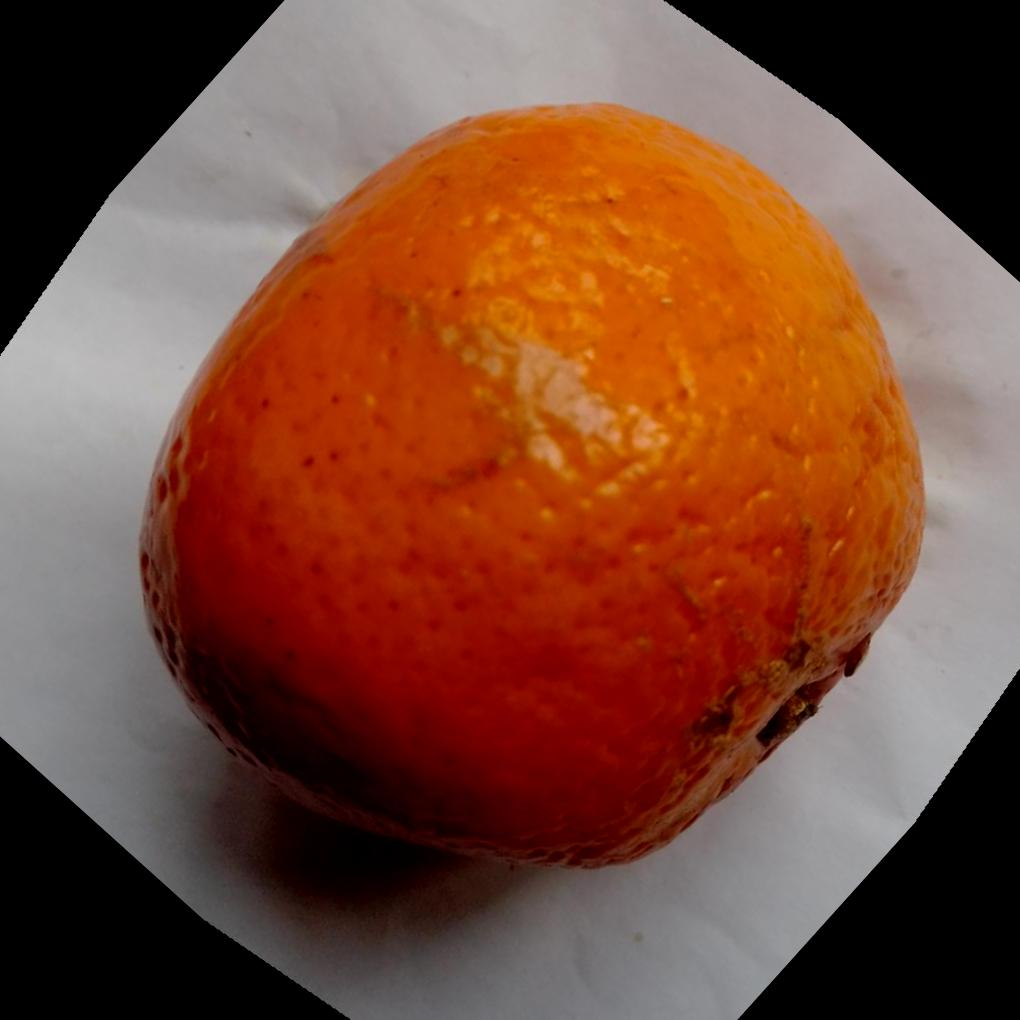FreshOrange: (132, 96, 925, 868)
